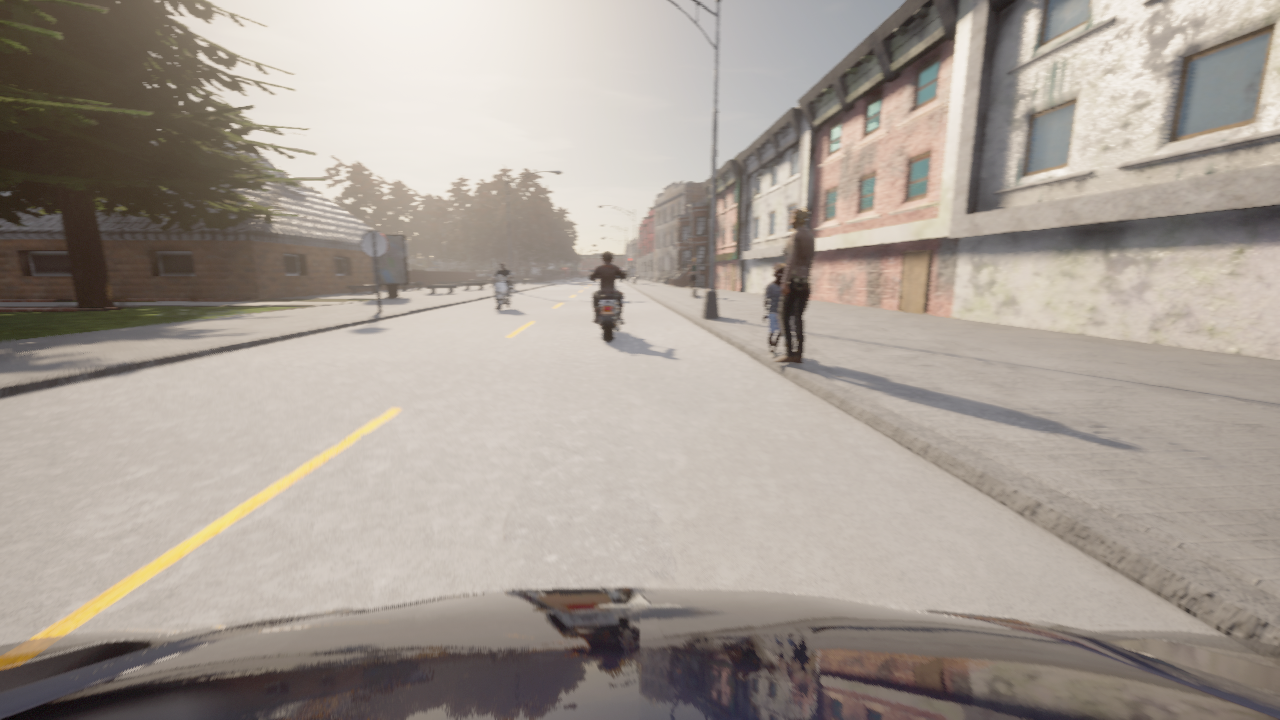cyclist: (0, 588, 1279, 719), (594, 271, 626, 341), (489, 272, 513, 311)
pedestrian: (774, 208, 815, 364), (762, 268, 784, 358), (688, 258, 698, 296)
